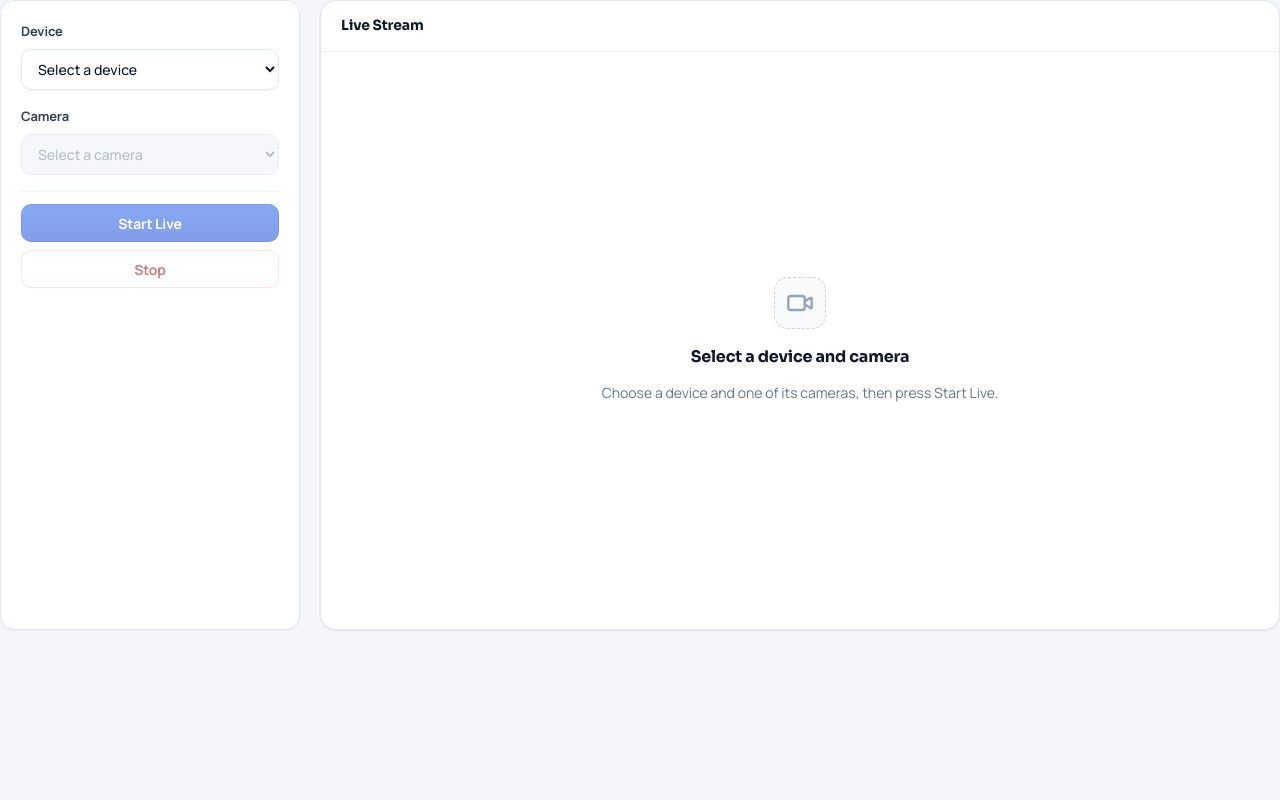
Test: VideoPage › shows the real backend error message for a 403 VIDEO_FORBIDDEN, not a fabricated one
The image size is (1280, 800).
Select "TERM12345678 — LSZ LSZ-C5804DG-Q-F" in the dropdown labelled "Device" at [150, 70], box [21, 49, 279, 90]
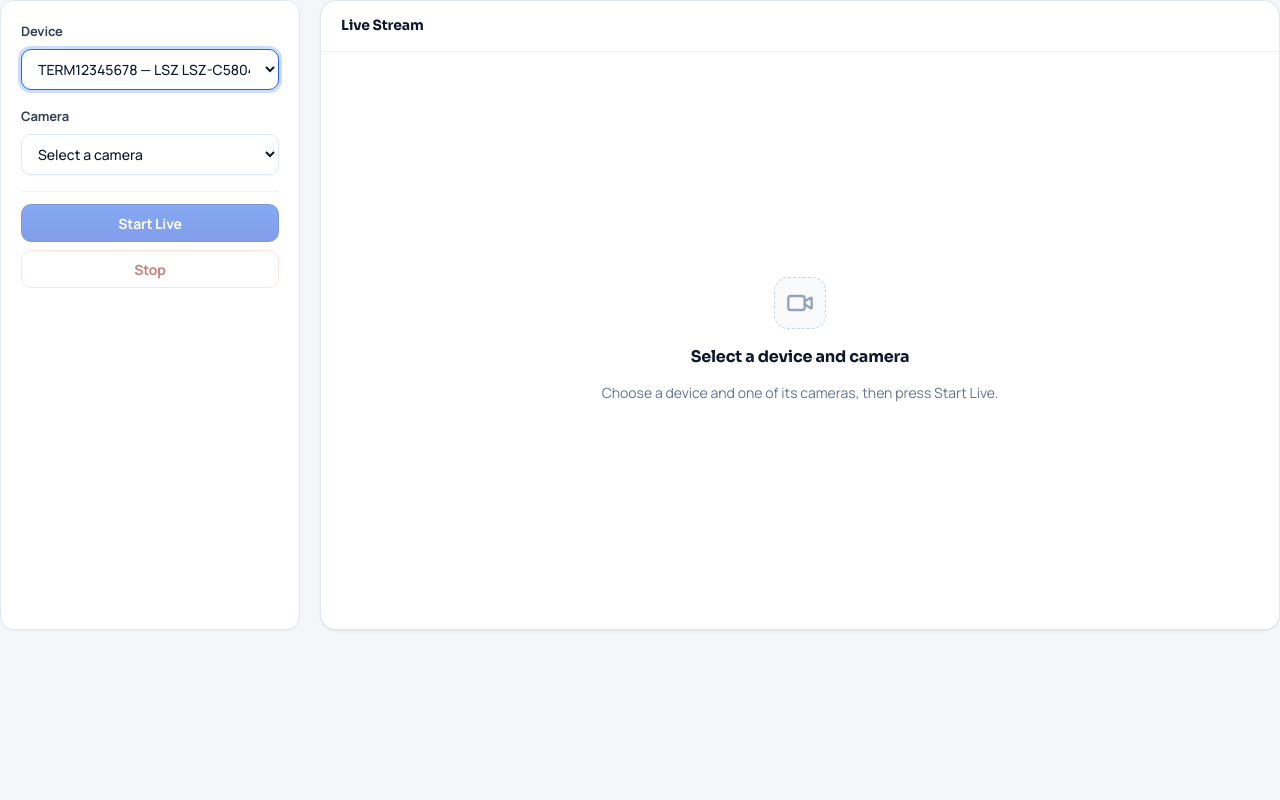
Select "Front (road_facing)" in the dropdown labelled "Camera" at [150, 155], box [21, 134, 279, 175]
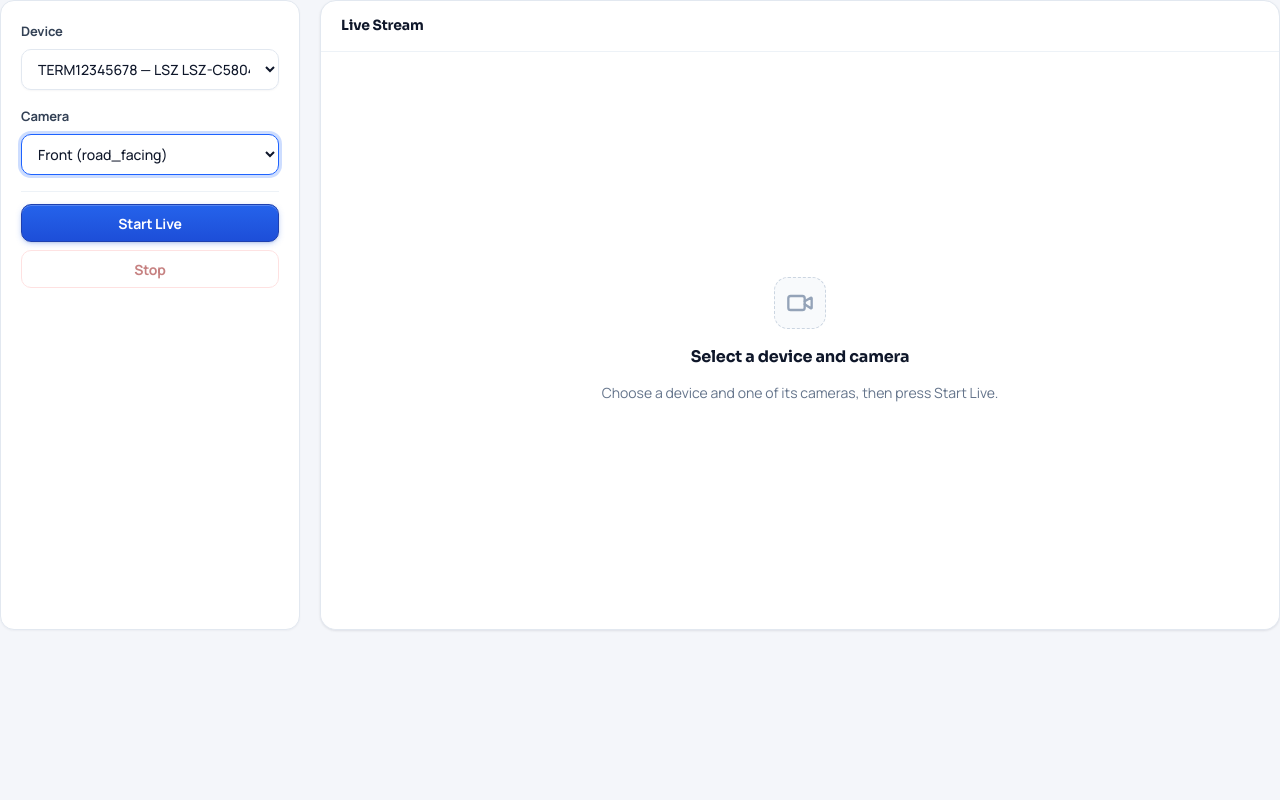
Click the button "Start Live".
click(150, 223)  # box [21, 204, 279, 242]
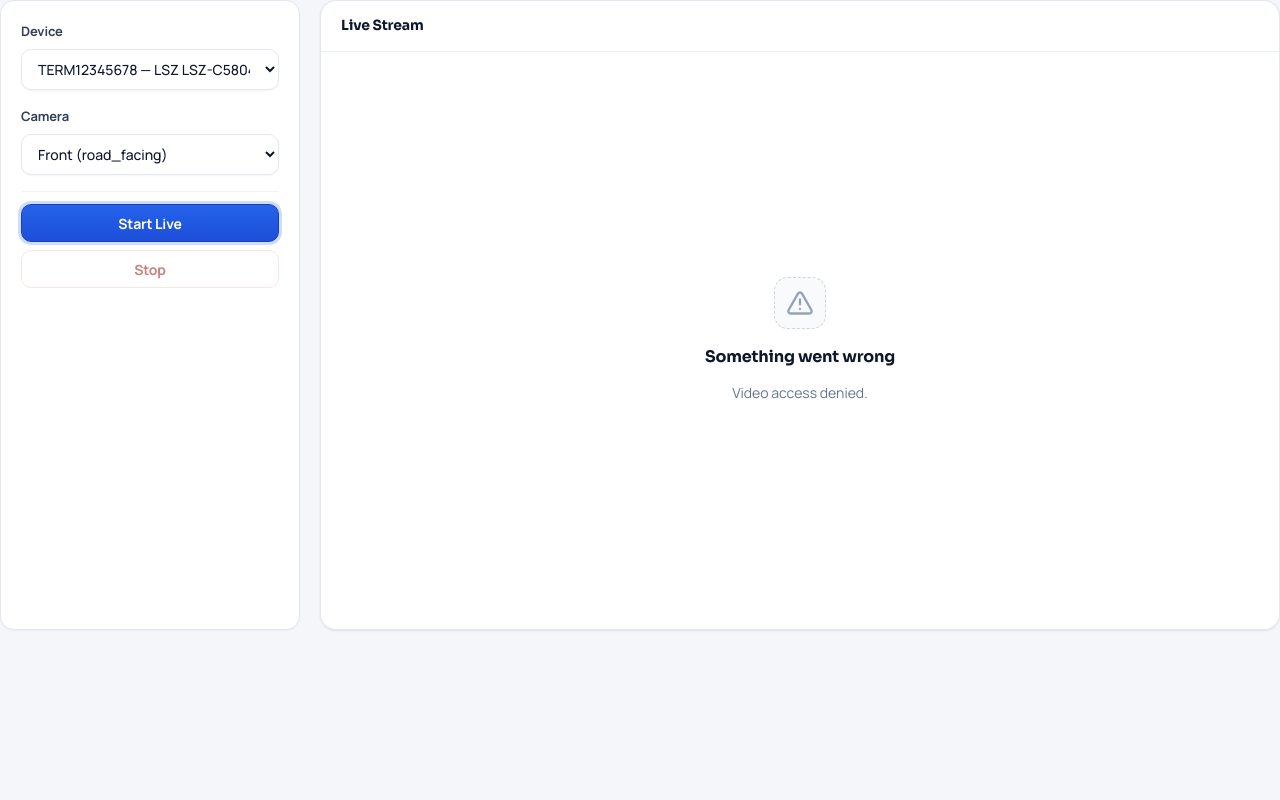
Now the text "Video access denied." is shown, box [732, 382, 868, 404]
